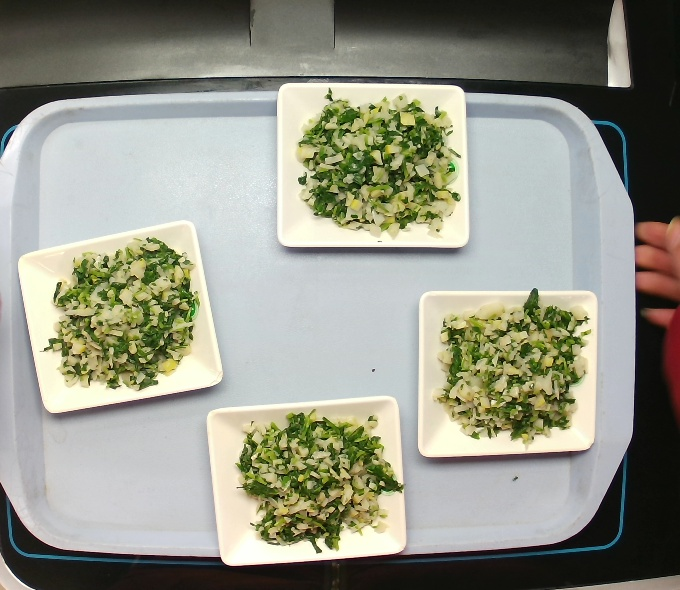wcq-MaLanTouBanChunSun: (281, 79, 474, 251), (221, 399, 411, 556), (37, 233, 200, 393), (431, 287, 588, 451)
